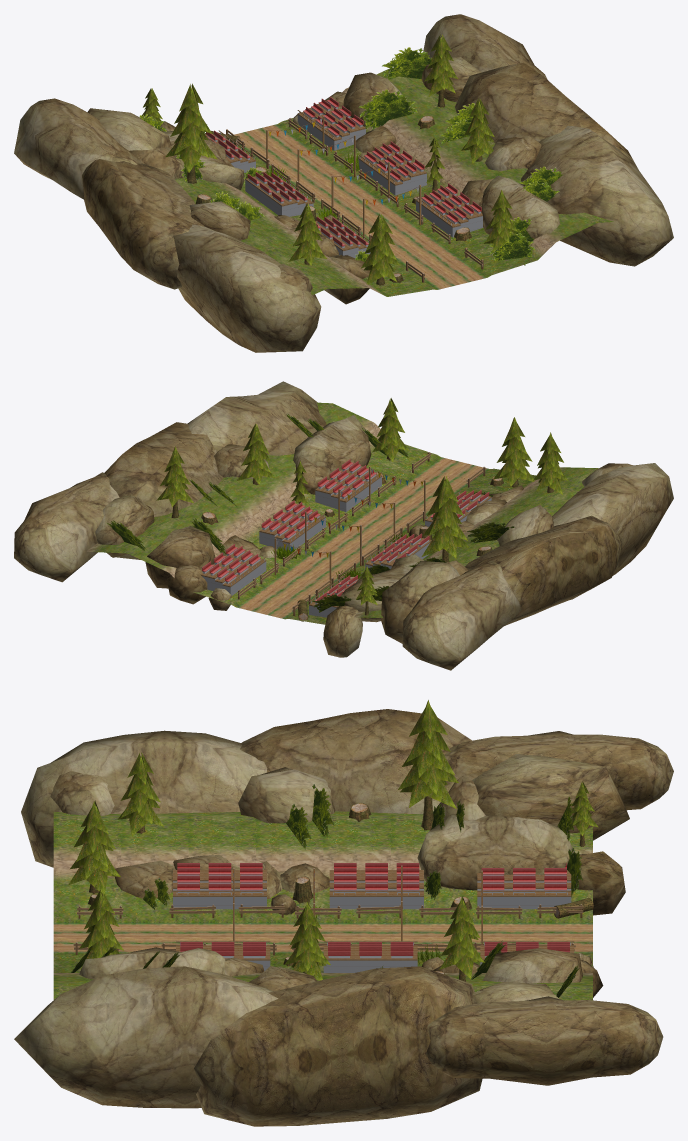
Rendered from BikeRoad07.FBX.
3 renders of one model, top to bottom at view 1: azimuth 30°, elevation 25°; view 2: azimuth 150°, elevation 25°; view 3: azimuth 270°, elevation 25°, orthographic. The views are drawn at different scales.
Visible parts, largest first — view 1: Rock (×17), Ground, Chair (×6), Tree (×6), GrassPlane (×3); view 2: Rock (×17), Ground, Tree (×8), Chair (×6); view 3: Rock (×18), Ground, Chair (×6), Tree (×7), GrassPlane.
Part boxes in pixels (x1,y1,x2,y2): Rock (×17): [14, 14, 673, 352]; Ground: [175, 69, 613, 296]; Chair (×6): [204, 96, 483, 257]; Tree (×6): [165, 34, 517, 285]; GrassPlane (×3): [358, 47, 535, 265]; Rock (×17): [14, 381, 673, 670]; Ground: [86, 402, 598, 624]; Tree (×8): [156, 398, 568, 618]; Chair (×6): [200, 459, 491, 617]; Rock (×18): [14, 709, 673, 1126]; Ground: [53, 811, 592, 1000]; Chair (×6): [173, 863, 574, 972]; Tree (×7): [68, 700, 598, 981]; GrassPlane: [312, 784, 333, 837].
Bounding box in the file's own units: 5411 × 1758 × 4895.
